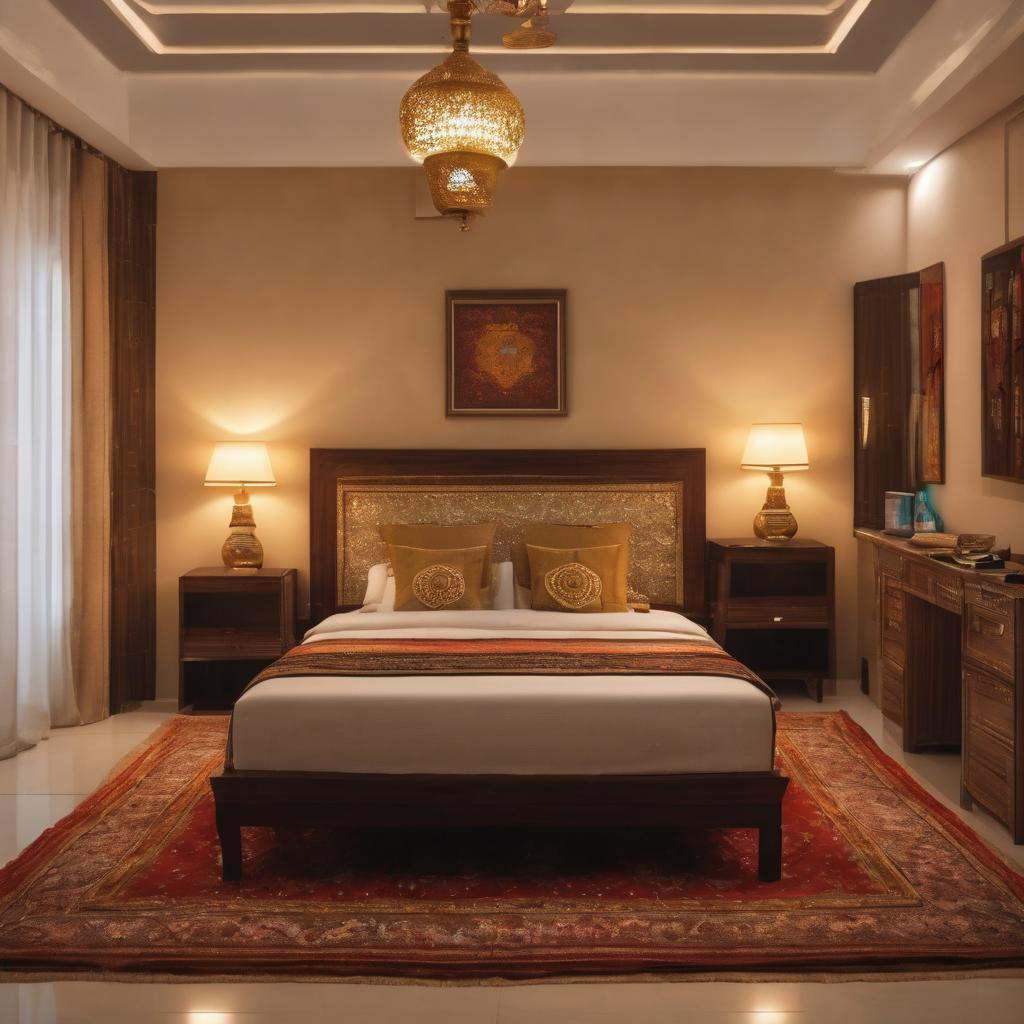bed: (202, 446, 779, 890)
door: (849, 282, 912, 702)
light: (394, 0, 532, 240), (192, 432, 284, 580), (744, 420, 812, 545)
table: (706, 532, 834, 700), (169, 562, 302, 712)
